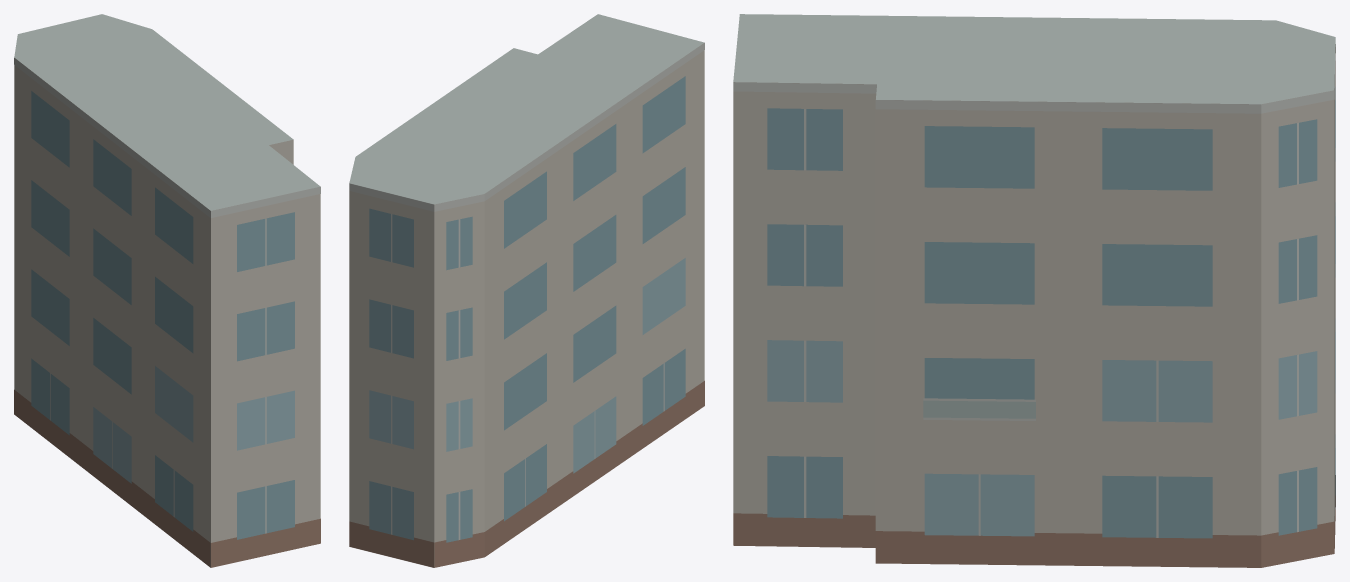
File: survey-upis-32672639.glb
3 renders of one model, left to right at view 1: azimuth 30°, elevation 25°; view 2: azimuth 150°, elevation 25°; view 3: azimuth 270°, elevation 25°, orthographic. The views are drawn at different scales.
Parts seen in each view (by area): view 1: survey-upis-32672639.tmp; view 2: survey-upis-32672639.tmp; view 3: survey-upis-32672639.tmp.
Part boxes in pixels (box(x1,y1,x2,y2)): survey-upis-32672639.tmp: box(14, 14, 320, 567); survey-upis-32672639.tmp: box(349, 14, 704, 567); survey-upis-32672639.tmp: box(733, 14, 1335, 567).
Size of the model in its own units: 5.02 by 12 by 14.15.
